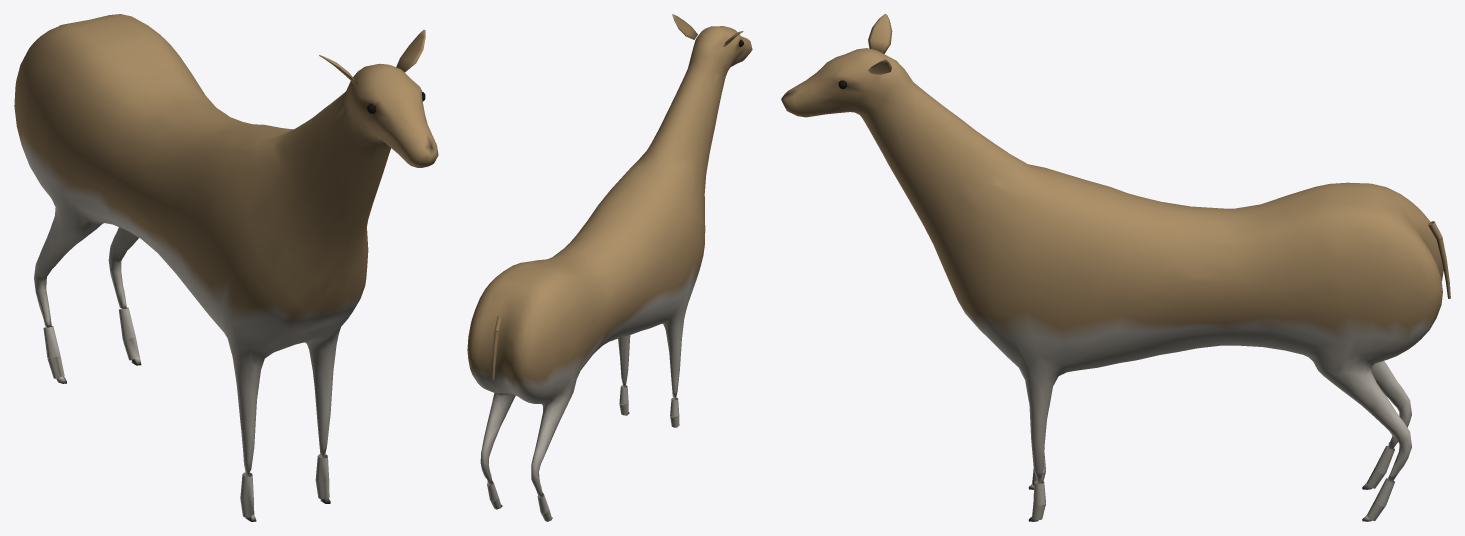
The model's file is antilope.glb.
3 views of the same model, side by side, from view 1: azimuth 30°, elevation 25°; view 2: azimuth 150°, elevation 25°; view 3: azimuth 270°, elevation 25° (orthographic). The views are drawn at different scales.
Parts seen in each view (by area): view 1: lack; view 2: lack; view 3: lack.
Part boxes in pixels (bbox=[...]): lack: bbox=[14, 14, 438, 521]; lack: bbox=[467, 14, 752, 521]; lack: bbox=[781, 14, 1450, 521].
Size of the model in its own units: 0.3621 by 1.38 by 1.78.
